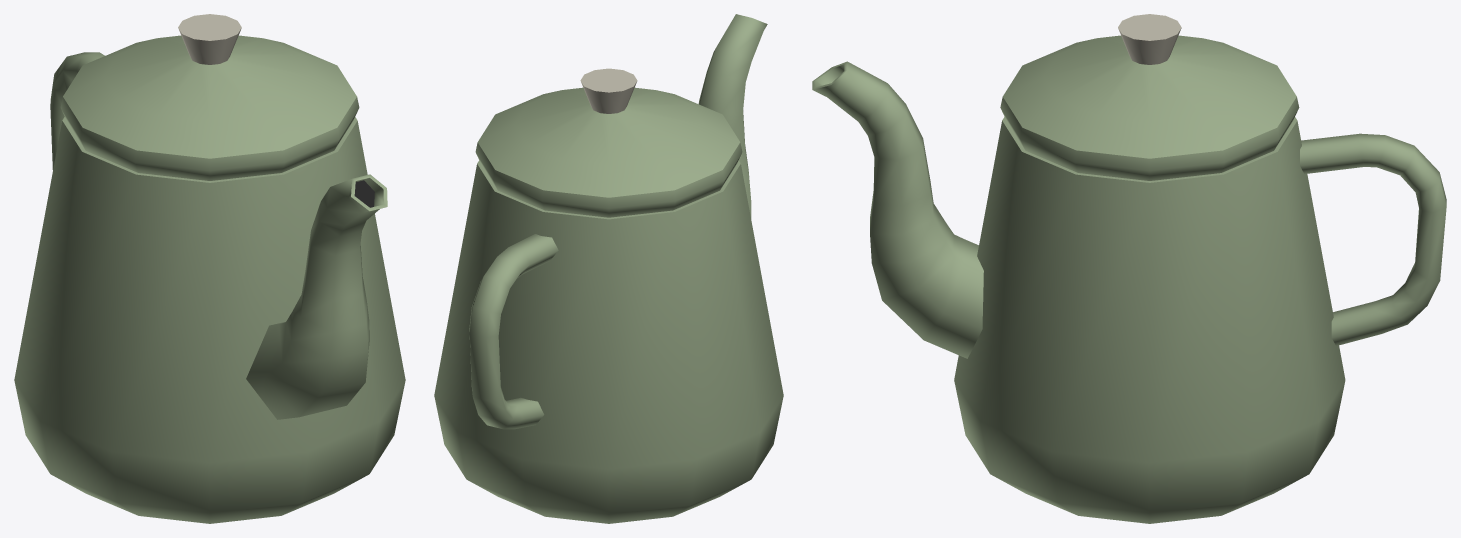
File: TeaPot_01.fbx
3 views of the same model, side by side, from view 1: azimuth 30°, elevation 25°; view 2: azimuth 150°, elevation 25°; view 3: azimuth 270°, elevation 25° (orthographic). The views are drawn at different scales.
Visible parts, largest first — view 1: TeaPot_01, TeaPot_01_Lid; view 2: TeaPot_01, TeaPot_01_Lid; view 3: TeaPot_01, TeaPot_01_Lid.
Part boxes in pixels (x1,y1,x2,y2): TeaPot_01: (14, 52, 405, 523); TeaPot_01_Lid: (60, 14, 359, 180); TeaPot_01: (434, 14, 783, 523); TeaPot_01_Lid: (475, 68, 742, 217); TeaPot_01: (812, 61, 1446, 523); TeaPot_01_Lid: (1000, 14, 1299, 180).
Bounding box in the file's own units: 0.1752 × 0.228 × 0.2839.
